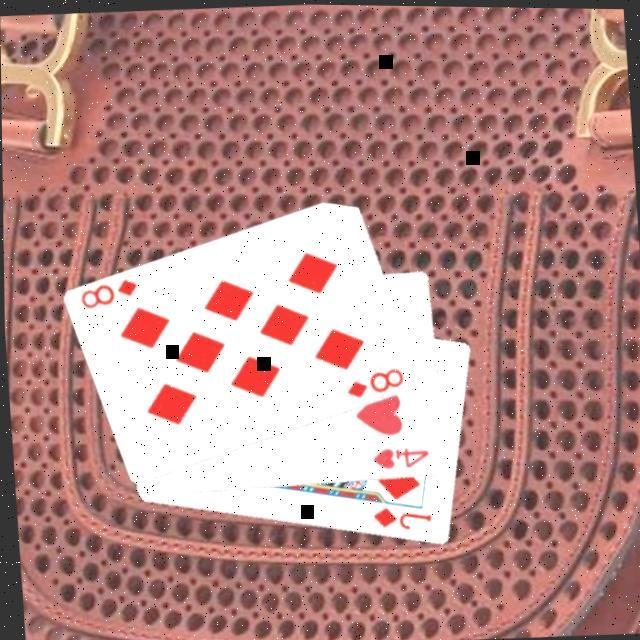4H: (370, 441, 433, 472)
8D: (343, 362, 409, 400), (77, 274, 143, 312)
JD: (370, 500, 435, 534)
